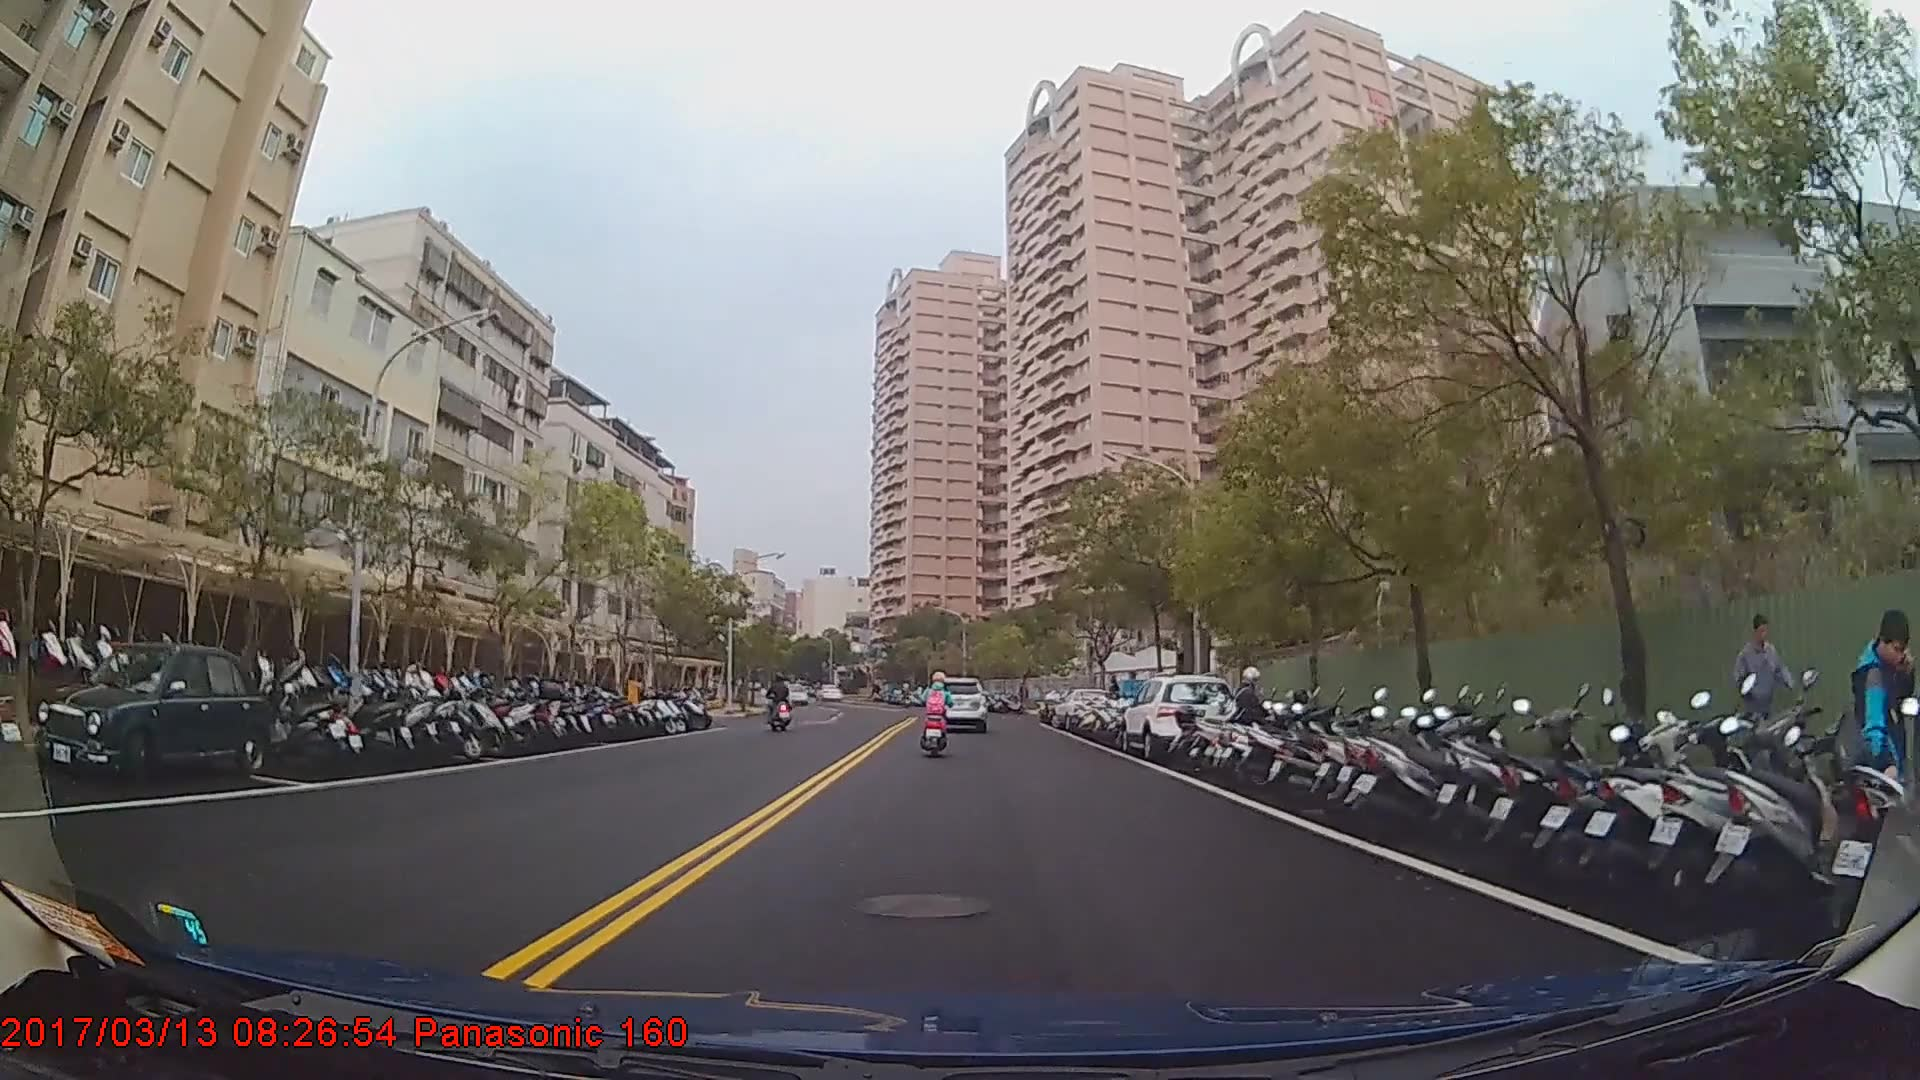pedestrian: (1849, 613, 1920, 898), (1734, 609, 1797, 784)
rider: (919, 672, 954, 759), (766, 672, 793, 730)
vehicle: (33, 638, 267, 788), (1119, 673, 1235, 760), (927, 676, 985, 730), (780, 682, 809, 705)
